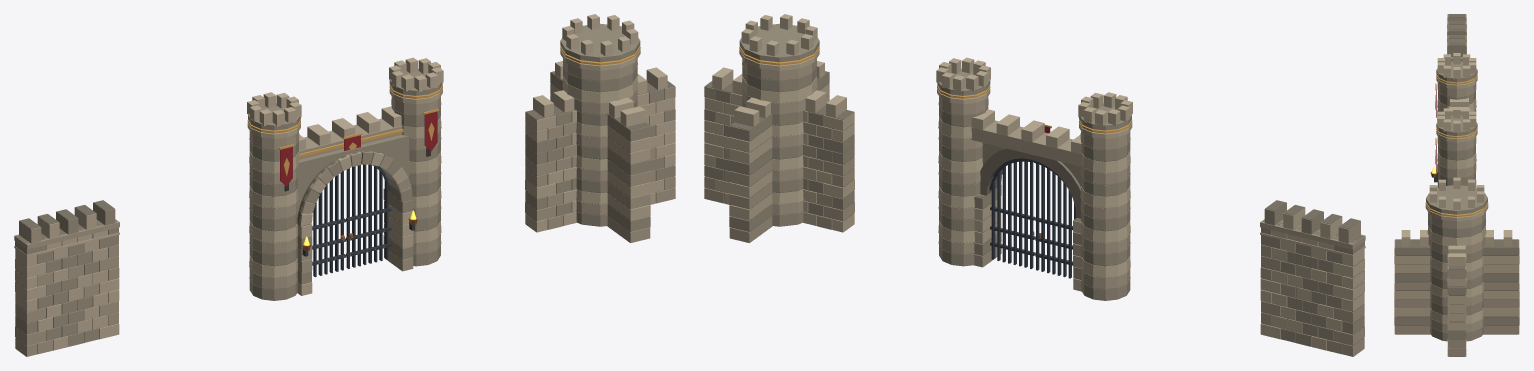
The model's file is muralhas-nivel-6.glb.
3 renders of one model, left to right at view 1: azimuth 30°, elevation 25°; view 2: azimuth 150°, elevation 25°; view 3: azimuth 270°, elevation 25°, orthographic. The views are drawn at different scales.
Visible parts, largest first — view 1: tower_6_c3b49a, gate_6_c3b49a, gate_6_a09682, tower_6_a09682, gate_6_b1a38d, tower_6_b1a38d, wall_6_c3b49a, wall_6_a09682, wall_6_b1a38d, right_6_3a424d, left_6_3a424d, tower_6_82796a (+4 smaller); view 2: tower_6_c3b49a, gate_6_c3b49a, tower_6_a09682, gate_6_b1a38d, gate_6_a09682, tower_6_b1a38d, wall_6_c3b49a, wall_6_a09682, wall_6_b1a38d, right_6_3a424d, left_6_3a424d, gate_6_82796a (+2 smaller); view 3: tower_6_c3b49a, tower_6_a09682, tower_6_b1a38d, gate_6_c3b49a, tower_6_82796a, gate_6_a09682, gate_6_b1a38d, wall_6_82796a, gate_6_dba85a, wall_6_a09682, tower_6_dba85a, wall_6_b1a38d (+1 smaller).
Part boxes in pixels (x1=…): tower_6_c3b49a: x1=525, y1=14, x2=675, y2=232; gate_6_c3b49a: x1=247, y1=57, x2=443, y2=295; gate_6_a09682: x1=248, y1=68, x2=442, y2=300; tower_6_a09682: x1=525, y1=23, x2=675, y2=231; gate_6_b1a38d: x1=249, y1=96, x2=441, y2=289; tower_6_b1a38d: x1=525, y1=59, x2=675, y2=242; wall_6_c3b49a: x1=14, y1=207, x2=119, y2=350; wall_6_a09682: x1=15, y1=200, x2=118, y2=346; wall_6_b1a38d: x1=14, y1=218, x2=119, y2=356; right_6_3a424d: x1=346, y1=164, x2=391, y2=268; left_6_3a424d: x1=312, y1=170, x2=346, y2=277; tower_6_82796a: x1=525, y1=71, x2=674, y2=242; tower_6_c3b49a: x1=704, y1=14, x2=854, y2=232; gate_6_c3b49a: x1=936, y1=57, x2=1132, y2=291; tower_6_a09682: x1=704, y1=23, x2=854, y2=231; gate_6_b1a38d: x1=938, y1=96, x2=1130, y2=289; gate_6_a09682: x1=937, y1=68, x2=1131, y2=300; tower_6_b1a38d: x1=704, y1=59, x2=854, y2=242; wall_6_c3b49a: x1=1260, y1=207, x2=1365, y2=350; wall_6_a09682: x1=1261, y1=200, x2=1364, y2=346; wall_6_b1a38d: x1=1260, y1=218, x2=1365, y2=356; right_6_3a424d: x1=989, y1=158, x2=1035, y2=268; left_6_3a424d: x1=1034, y1=160, x2=1076, y2=278; gate_6_82796a: x1=942, y1=110, x2=1126, y2=300; tower_6_c3b49a: x1=1394, y1=177, x2=1519, y2=340; tower_6_a09682: x1=1394, y1=185, x2=1519, y2=340; tower_6_b1a38d: x1=1394, y1=212, x2=1519, y2=356; gate_6_c3b49a: x1=1436, y1=53, x2=1477, y2=187; tower_6_82796a: x1=1395, y1=223, x2=1518, y2=356; gate_6_a09682: x1=1436, y1=61, x2=1477, y2=185; gate_6_b1a38d: x1=1437, y1=83, x2=1476, y2=177; wall_6_82796a: x1=1448, y1=14, x2=1465, y2=58; gate_6_dba85a: x1=1435, y1=74, x2=1477, y2=164; wall_6_a09682: x1=1447, y1=28, x2=1466, y2=56; tower_6_dba85a: x1=1425, y1=202, x2=1488, y2=217; wall_6_b1a38d: x1=1447, y1=14, x2=1466, y2=61.
Bounding box in the file's own units: 27.99 × 7.73 × 6.02.
